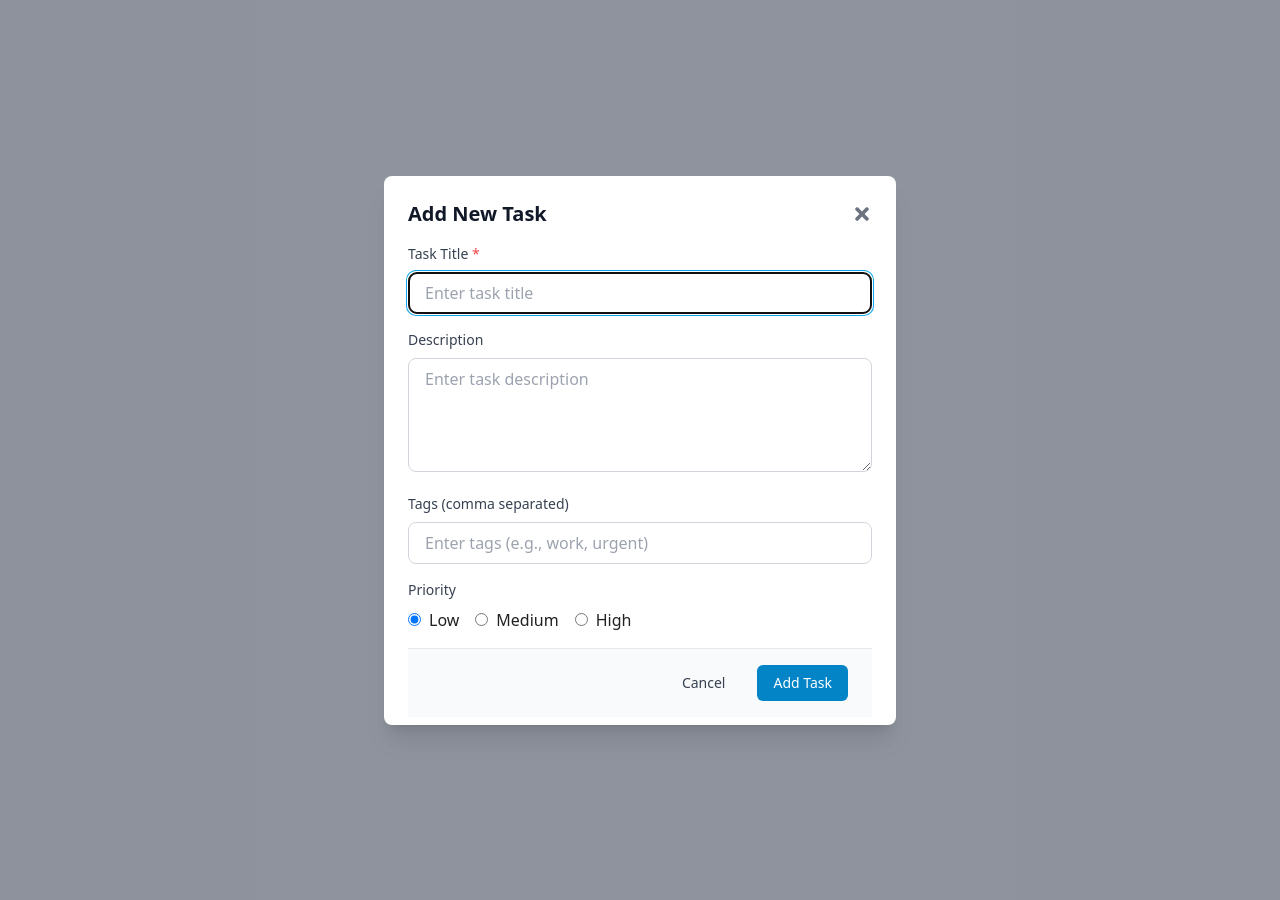
Scenario: AddTaskModal › should show error when submitting empty title
This screenshot has width=1280, height=900.
What coordinates should you click on to do the following:
click the button with test id "submit-button"
I would click on:
 (803, 682)
Its box is [758,664,848,700].
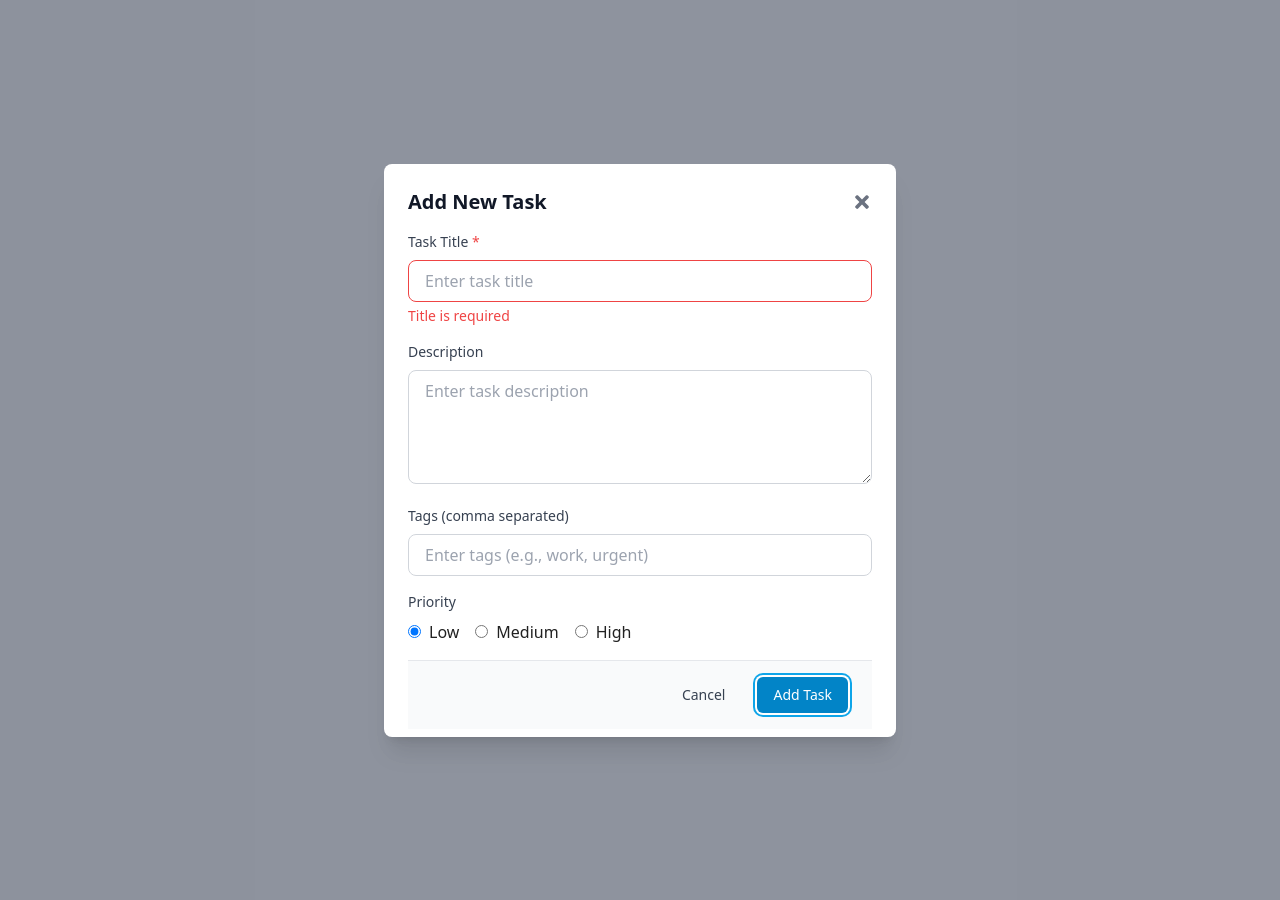
Expected: the text "Title is required" is shown, [408,306,510,324]
